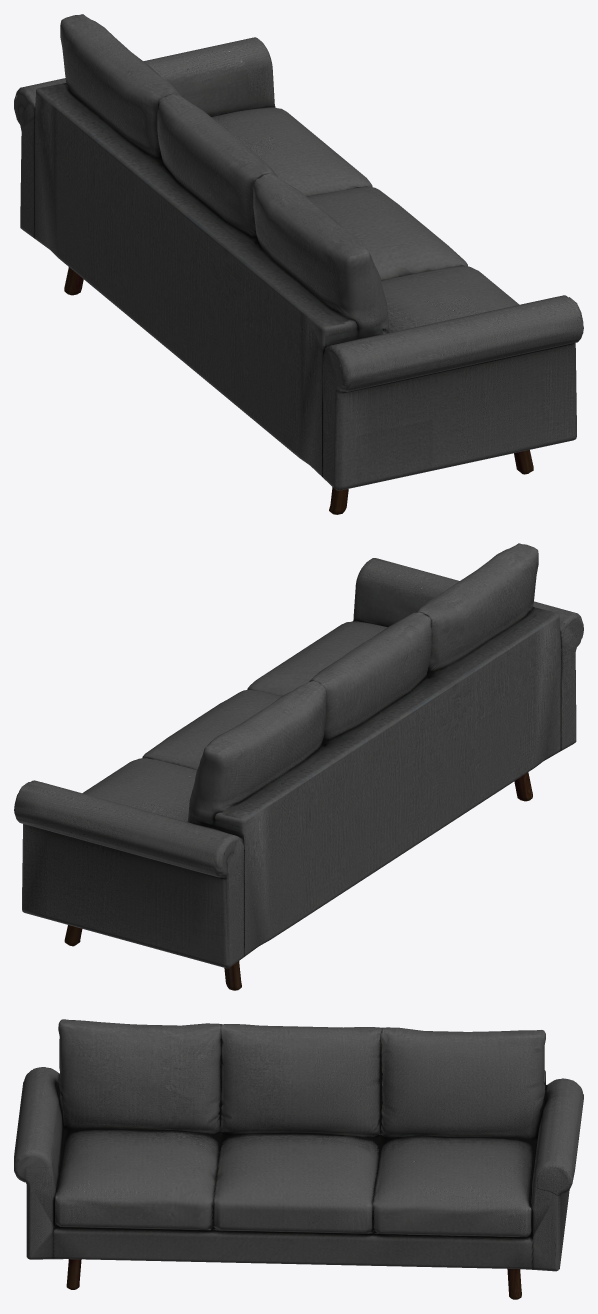
File: tripo_convert_04b61a30-d7db-46d7-ab0e-ab5dd772e40c.fbx
The picture shows the model from 3 angles, top to bottom: view 1: azimuth 30°, elevation 25°; view 2: azimuth 150°, elevation 25°; view 3: azimuth 270°, elevation 25°; orthographic projection. The views are drawn at different scales.
Parts seen in each view (by area): view 1: tripo_node_04b61a30; view 2: tripo_node_04b61a30; view 3: tripo_node_04b61a30.
Part boxes in pixels (x1=…): tripo_node_04b61a30: x1=14, y1=14, x2=583, y2=514; tripo_node_04b61a30: x1=14, y1=543, x2=583, y2=990; tripo_node_04b61a30: x1=14, y1=1019, x2=583, y2=1299.
Bounding box in the file's own units: 0.4173 × 0.3925 × 1.
